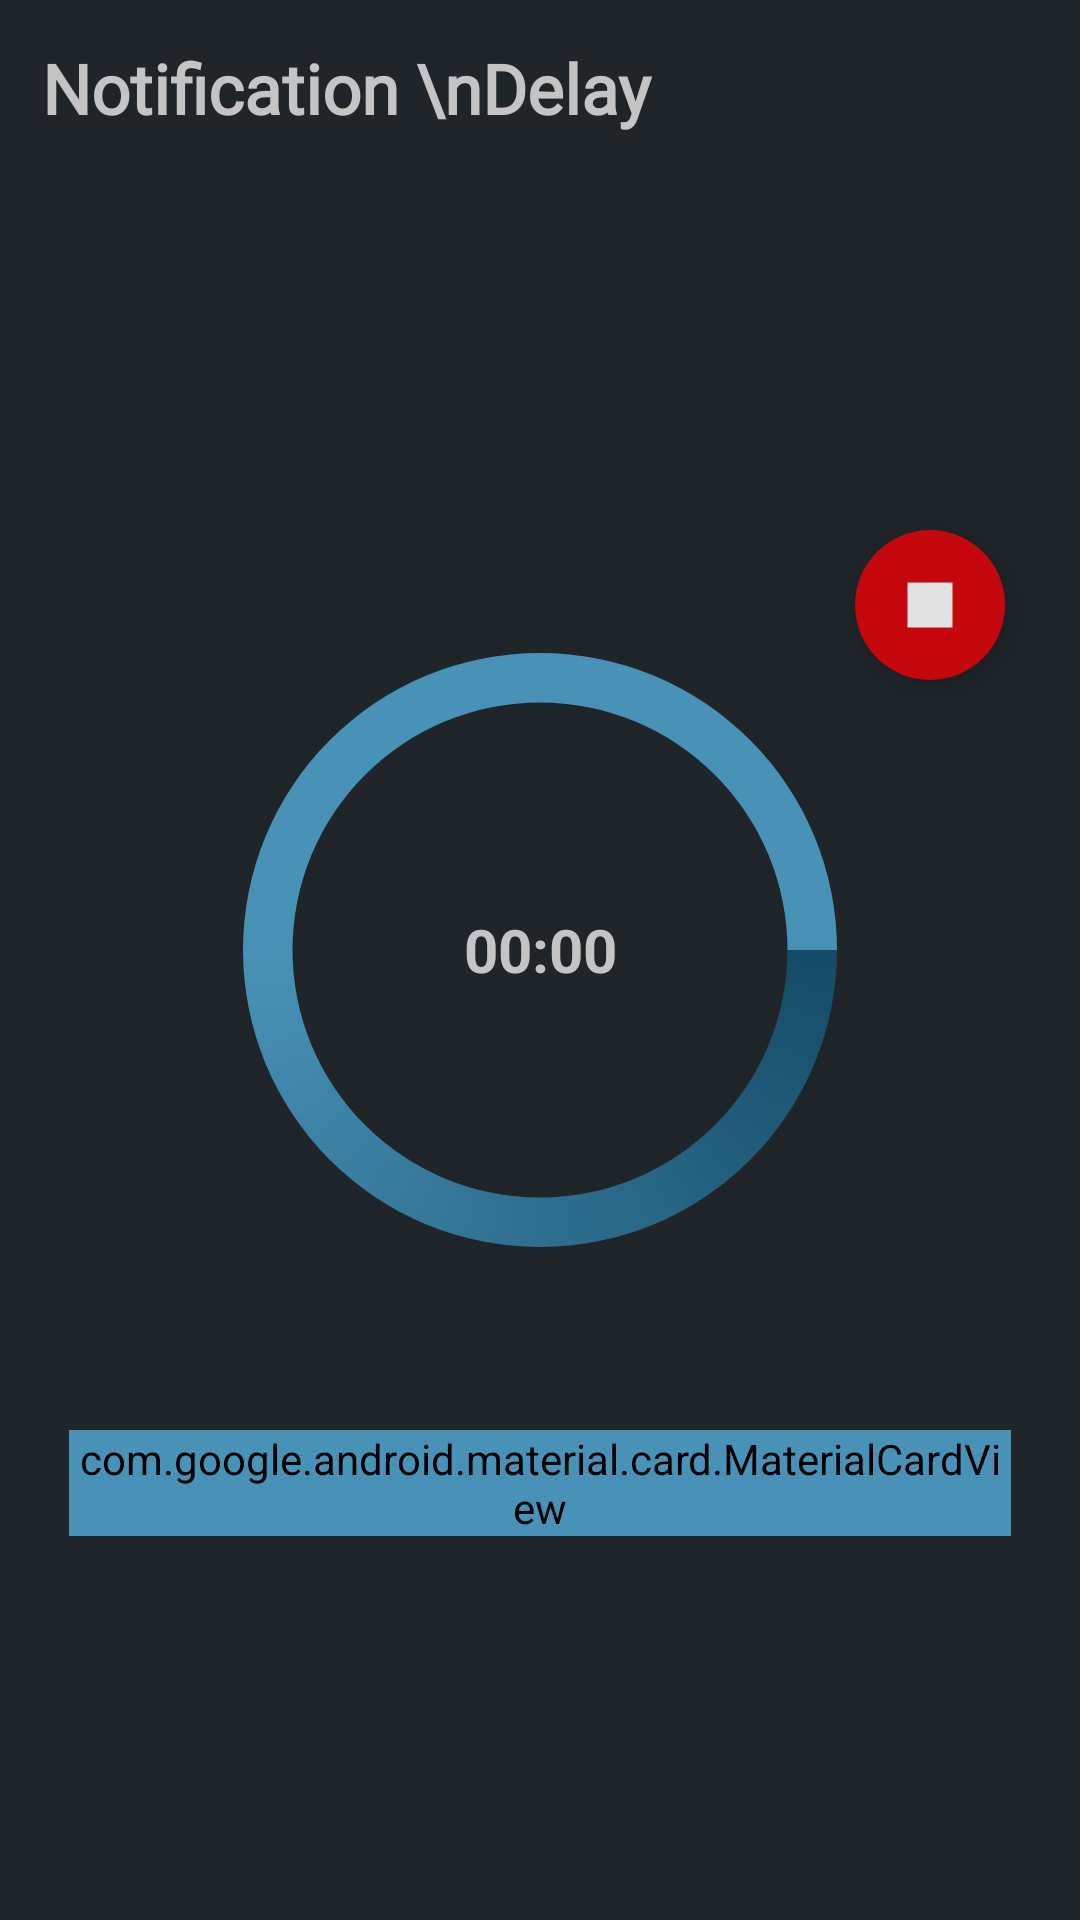

Icons on this 1080px x 1920px Android screen, each with its box as (x1, y1, x2, y2):
stop: (855, 530, 1005, 680)
